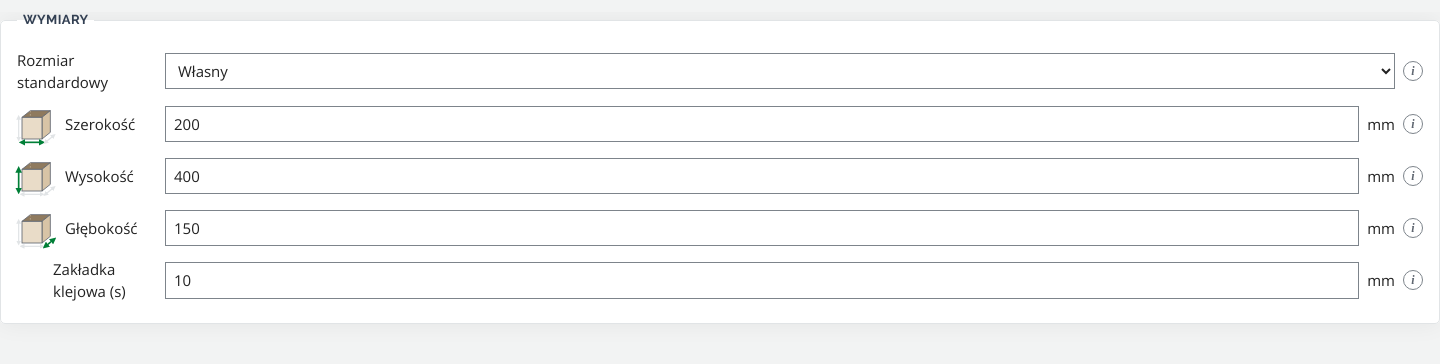
DimensionsForm — width/depth lock › shows the translated error while the draft is invalid and does not commit it
The width and height of the screenshot is (1440, 364).
Replace the text in the number field labelled "Szerokość" with "100" at (762, 124), box [165, 106, 1359, 142]
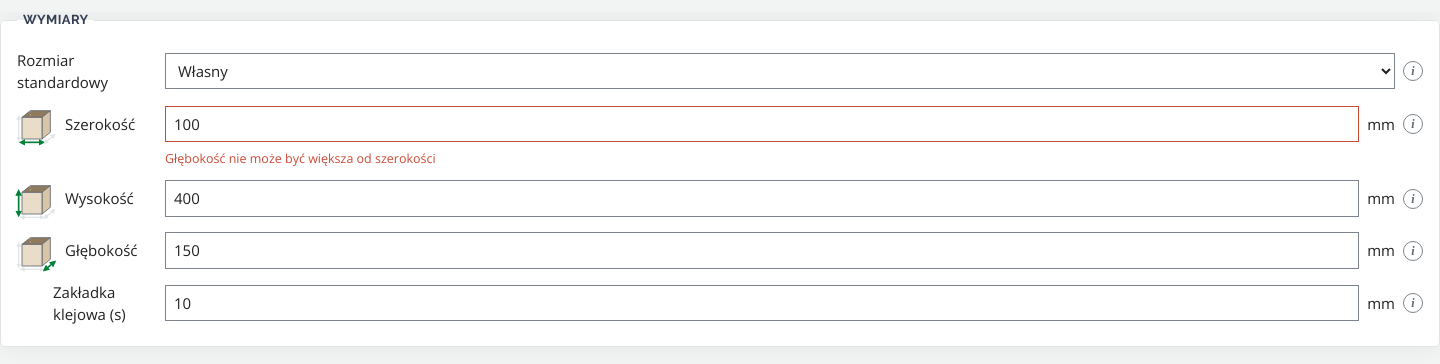
Now the text "Głębokość nie może być większa od szerokości" is shown, box [165, 150, 436, 167]
Replace the text in the number field labelled "Szerokość" with "212" at (762, 124), box [165, 106, 1359, 142]
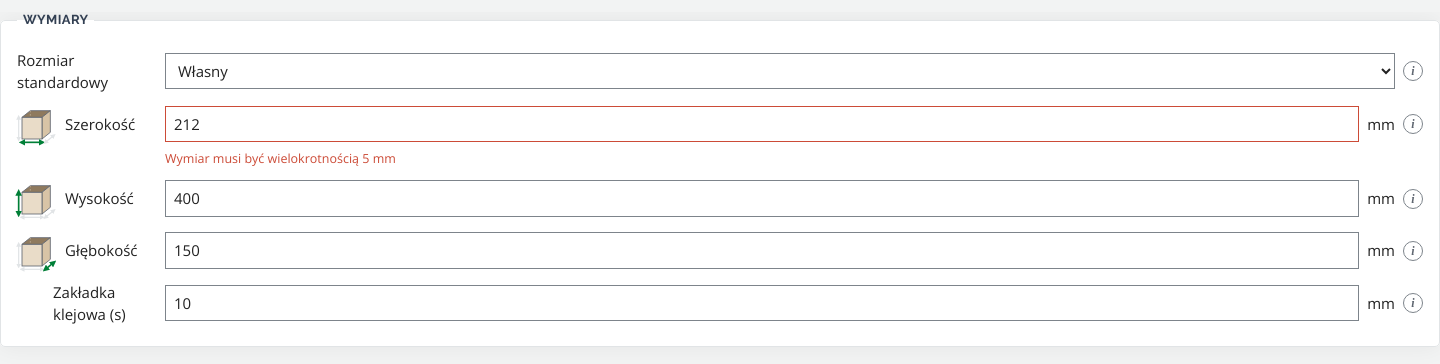
Now the text "Wymiar musi być wielokrotnością 5 mm" is shown, box [165, 150, 396, 167]
